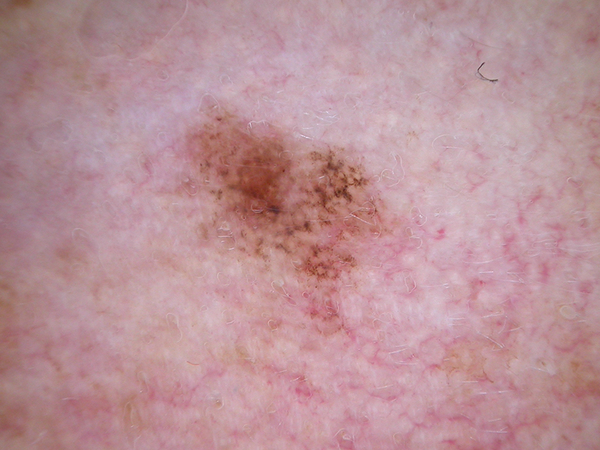Detected Lesion: (177, 99, 380, 299)
